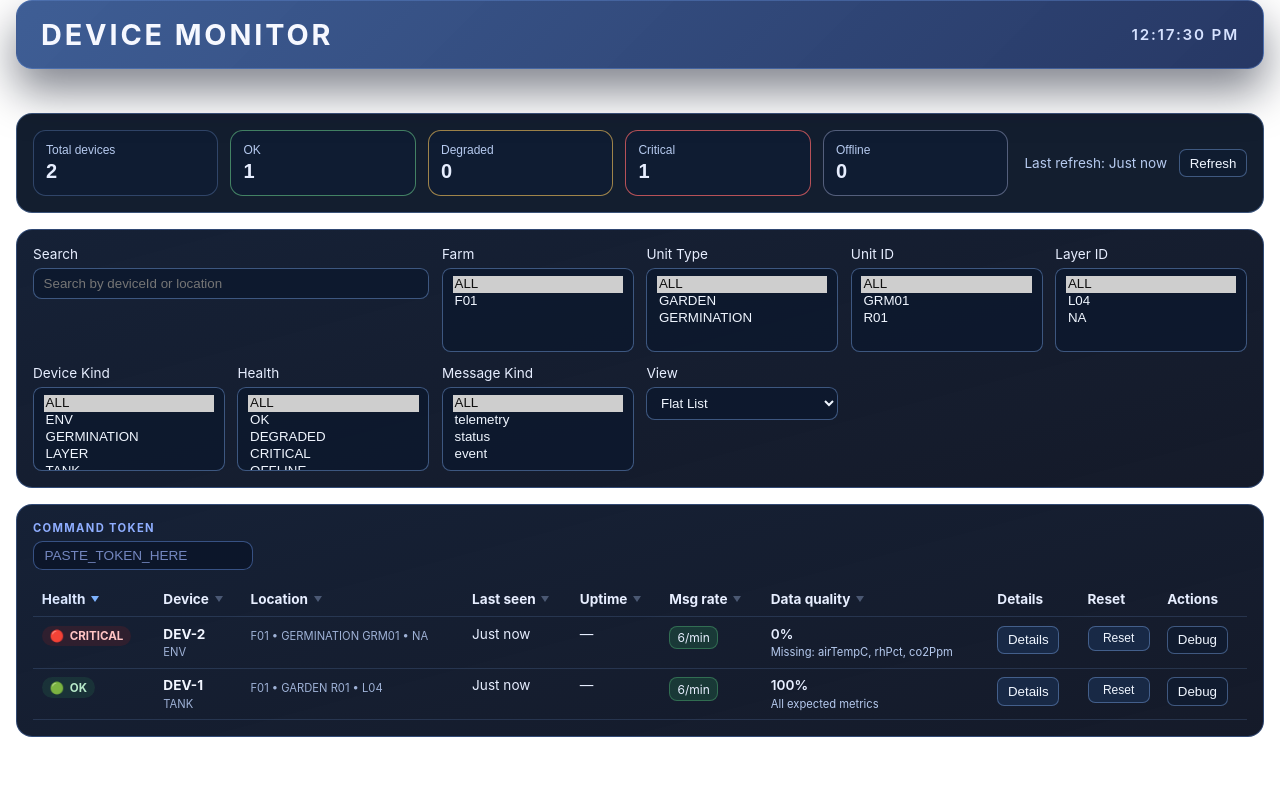
Overview filters and drawer › filters devices and opens drawer
Check: the text "DEV-1" is shown, box [163,678,203,694]
Type "DEV-1" into the search field labelled "Search".
click(231, 284); type("DEV-1")  # box [33,268,429,299]
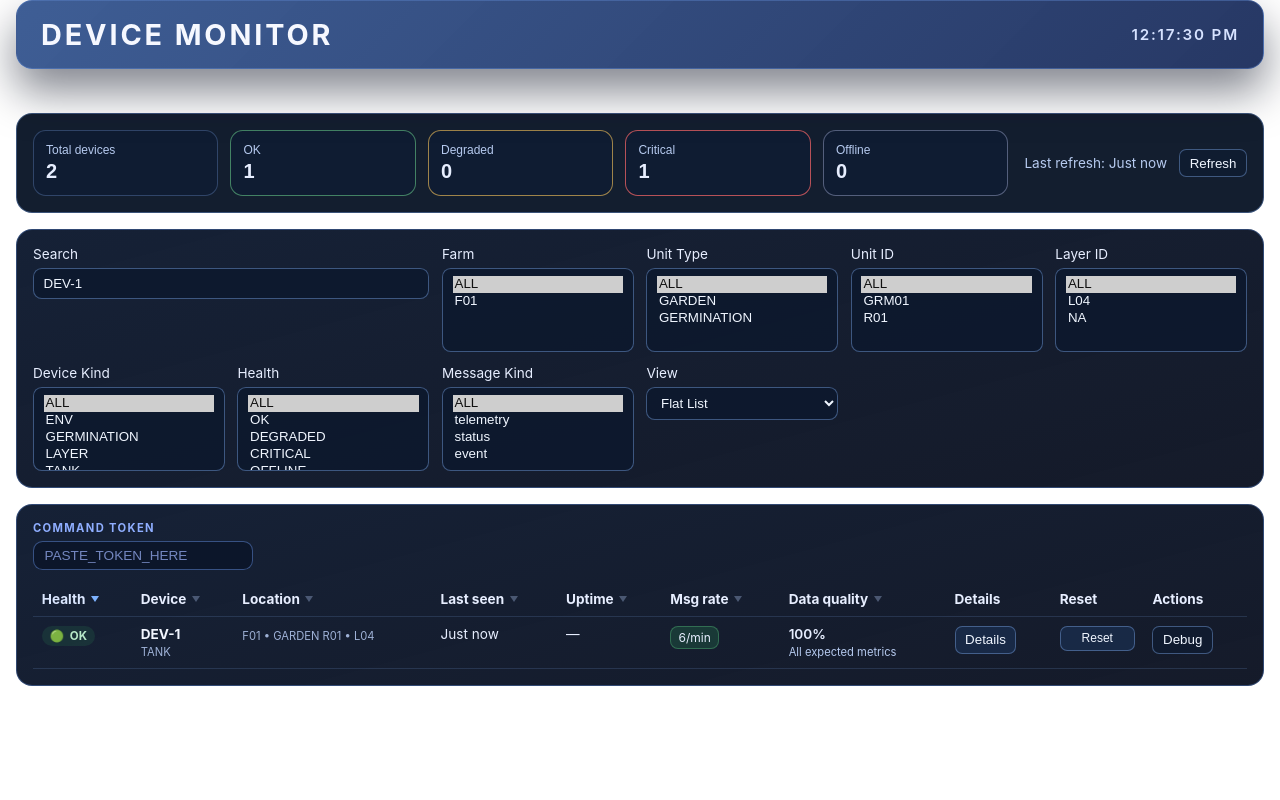
Check: the text "DEV-2" is gone
Click the button "Details".
click(985, 640)  # box [954,626,1016,654]
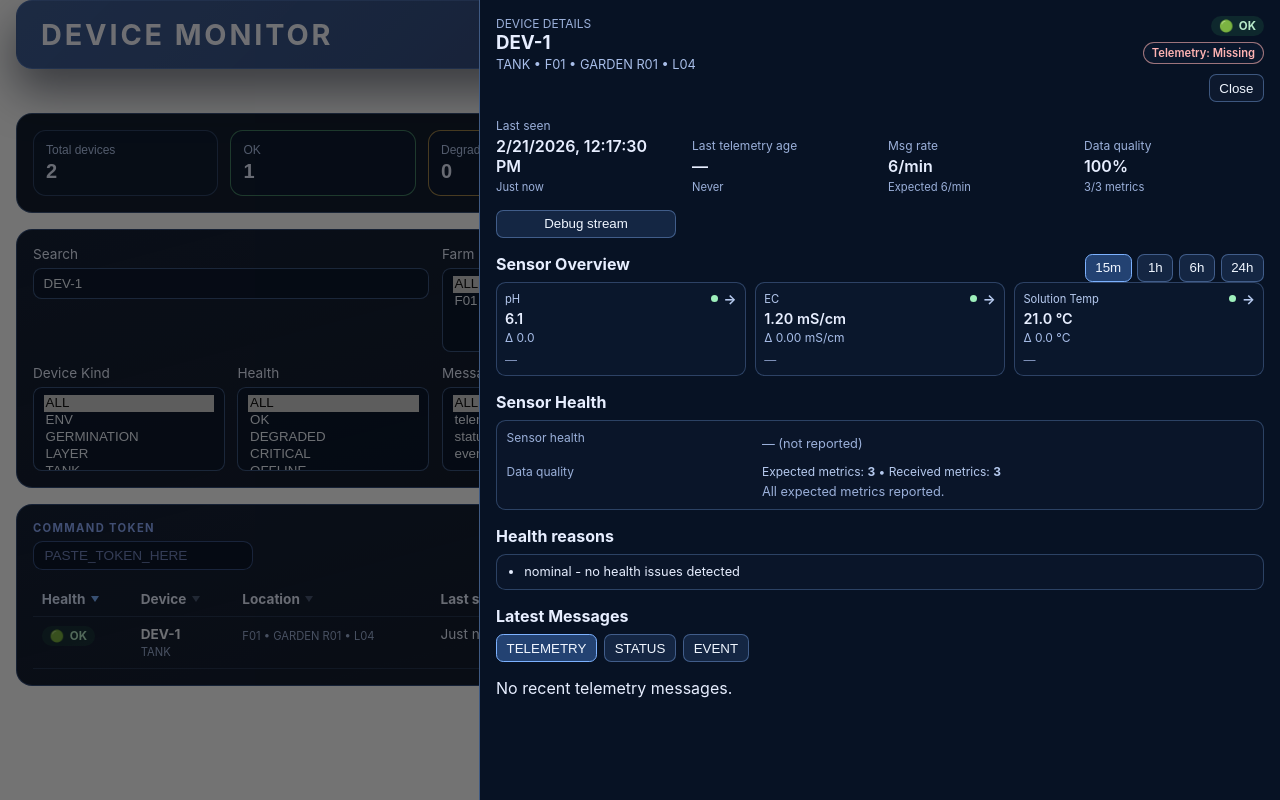
Check: the text "Device Details" is shown, box [496,16,591,31]
Check: the heading "DEV-1" is shown, box [496,31,551,54]
